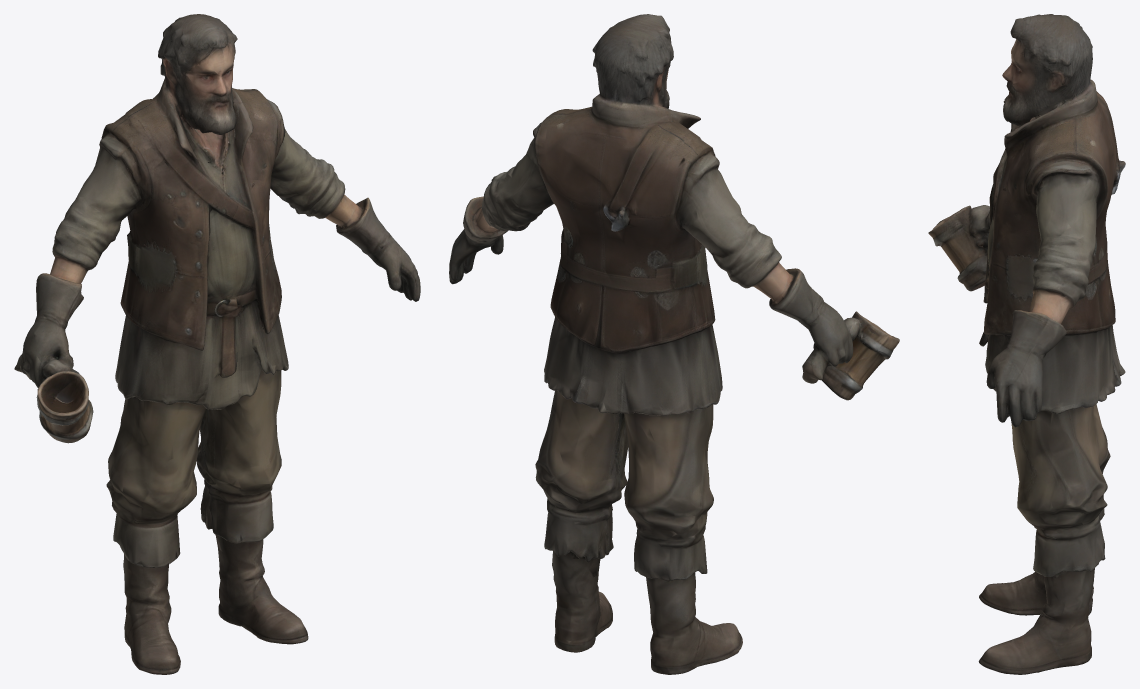
The model's file is drunk_sailor.glb.
The picture shows the model from 3 angles, left to right: view 1: azimuth 30°, elevation 25°; view 2: azimuth 150°, elevation 25°; view 3: azimuth 270°, elevation 25°; orthographic projection.
Bounding box in the file's own units: 1.38 × 2 × 0.5804.
1 material, 1 textured.
